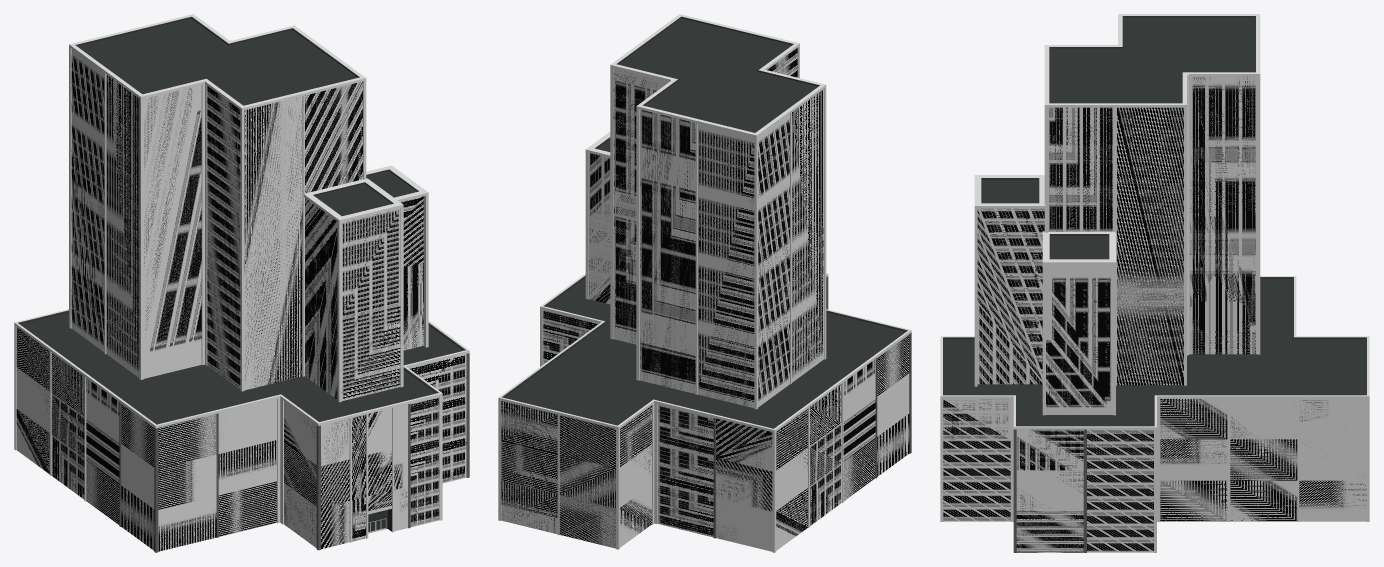
File: large_low_poly_building.obj
The picture shows the model from 3 angles, left to right: view 1: azimuth 30°, elevation 25°; view 2: azimuth 150°, elevation 25°; view 3: azimuth 270°, elevation 25°; orthographic projection. The views are drawn at different scales.
Parts seen in each view (by area): view 1: Material2_1, Material2_2, Material2; view 2: Material2_1, Material2_2, Material2; view 3: Material2_1, Material2_2, Material2.
Boxes of the visible parts, x1,y1,x2,y2 form: Material2_1: (16, 49, 466, 551); Material2_2: (18, 16, 465, 532); Material2: (14, 14, 469, 552); Material2_1: (501, 48, 909, 551); Material2_2: (502, 16, 907, 428); Material2: (498, 14, 911, 552); Material2_1: (943, 76, 1366, 552); Material2_2: (943, 16, 1366, 426); Material2: (940, 14, 1369, 552).
Size of the model in its own units: 14.4 by 18 by 17.27.
